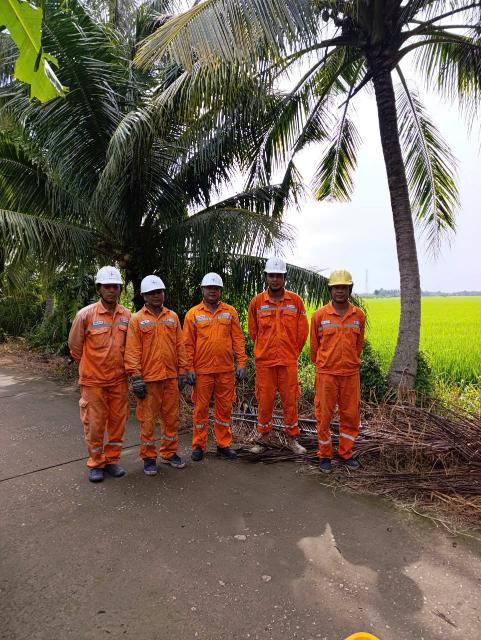gloves: (124, 371, 158, 400), (234, 363, 248, 384), (178, 372, 190, 392), (188, 368, 200, 386)
helmet: (92, 261, 128, 295), (259, 251, 290, 282), (322, 268, 361, 288), (139, 274, 170, 298), (200, 273, 226, 292)
shoes: (282, 433, 304, 460), (332, 453, 363, 469), (211, 442, 234, 461), (313, 454, 336, 472), (162, 454, 189, 468), (246, 440, 271, 453), (86, 465, 106, 481), (184, 445, 206, 459), (141, 459, 161, 474), (109, 460, 123, 481)
